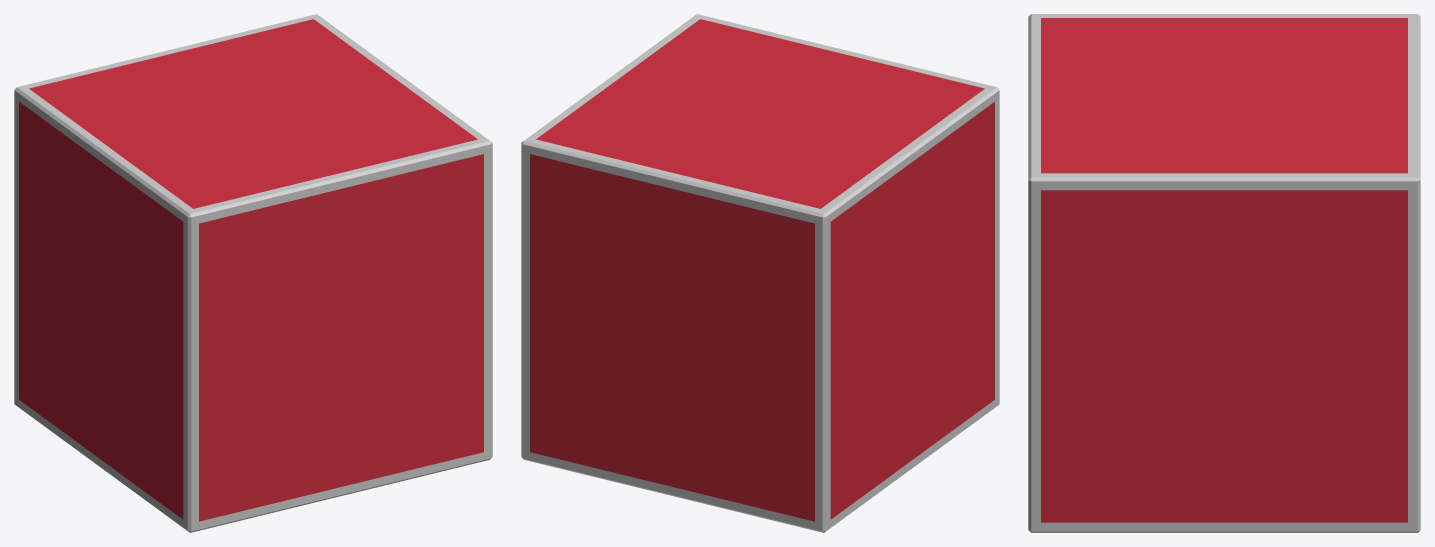
The model's file is Blocklike2.fbx.
3 views of the same model, side by side, from view 1: azimuth 30°, elevation 25°; view 2: azimuth 150°, elevation 25°; view 3: azimuth 270°, elevation 25° (orthographic). The views are drawn at different scales.
Visible parts, largest first — view 1: Cube; view 2: Cube; view 3: Cube.
Part boxes in pixels (bbox=[...]): Cube: bbox=[14, 14, 492, 532]; Cube: bbox=[521, 14, 999, 532]; Cube: bbox=[1028, 14, 1420, 532].
Size of the model in its own units: 200 by 200 by 200.
